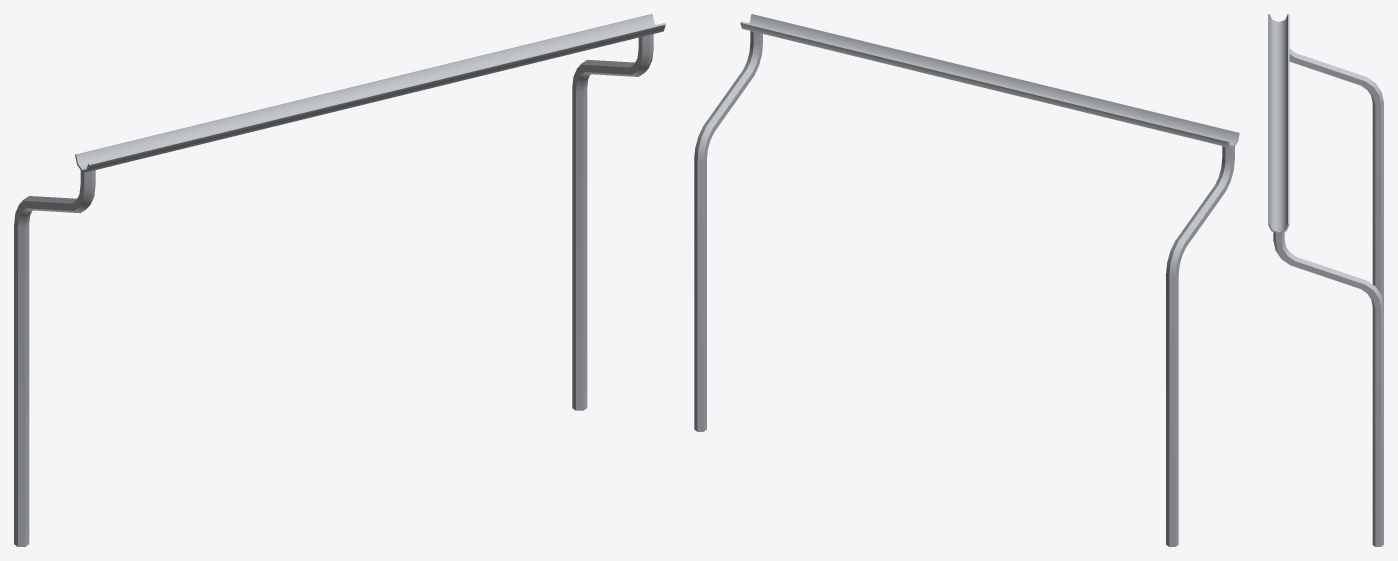
The model's file is SM_pipe_entrance_02.fbx.
3 renders of one model, left to right at view 1: azimuth 30°, elevation 25°; view 2: azimuth 150°, elevation 25°; view 3: azimuth 270°, elevation 25°, orthographic. The views are drawn at different scales.
Parts seen in each view (by area): view 1: Line039; view 2: Line039; view 3: Line039.
Boxes of the visible parts, <box> form: Line039: <box>14,14,665,546</box>; Line039: <box>694,14,1239,546</box>; Line039: <box>1268,14,1383,546</box>.
Bounding box in the file's own units: 191 × 44.41 × 138.
